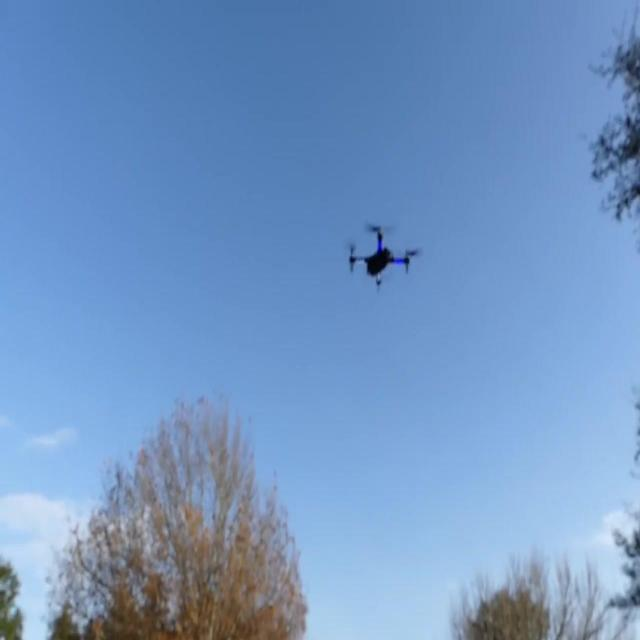UAV: (348, 222, 422, 294)
